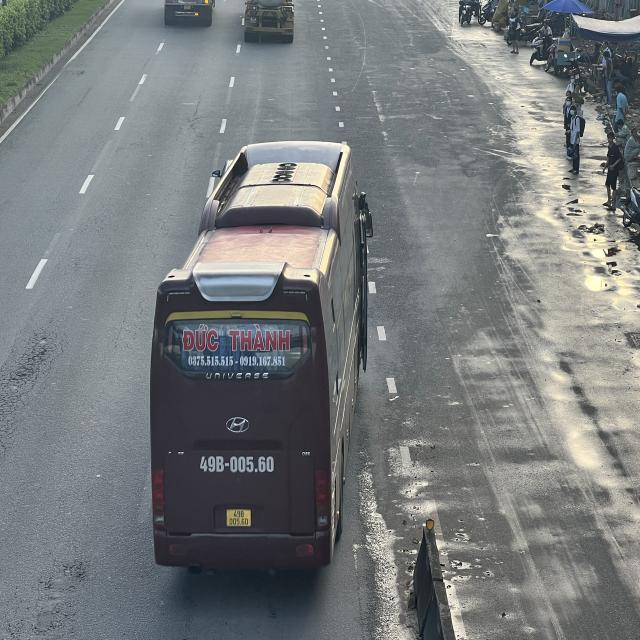coach: (153, 137, 375, 570)
